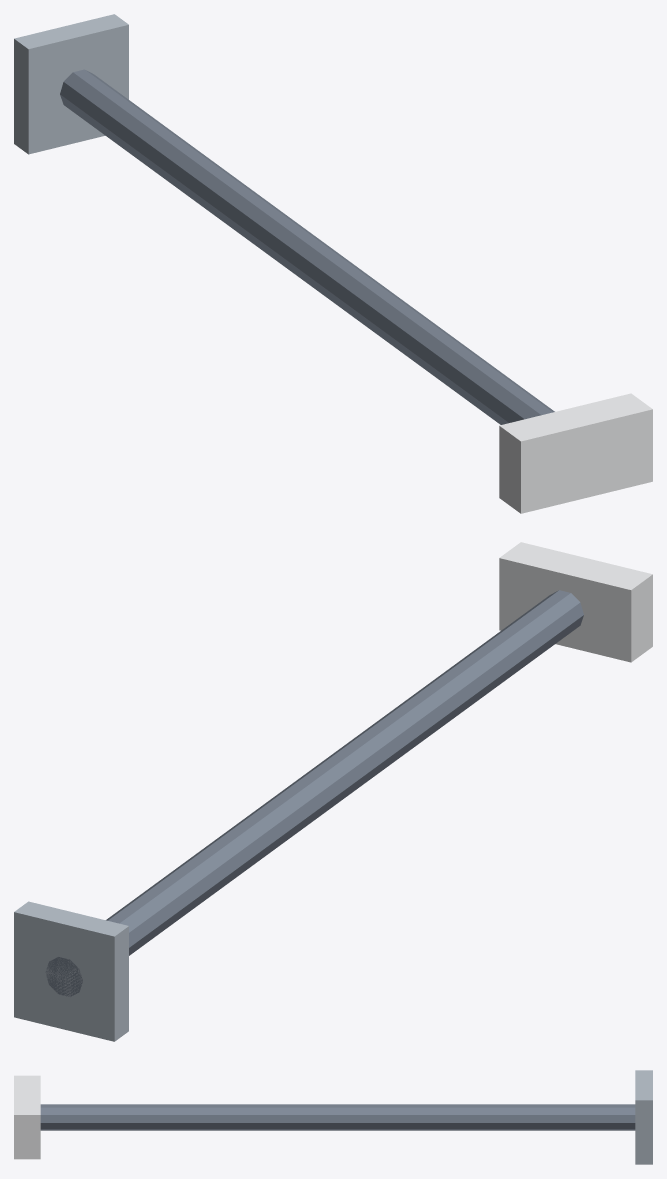
File: lamp_post.glb
3 renders of one model, top to bottom at view 1: azimuth 30°, elevation 25°; view 2: azimuth 150°, elevation 25°; view 3: azimuth 270°, elevation 25°, orthographic. The views are drawn at different scales.
Parts seen in each view (by area): view 1: pole_0, lamp_1, base_2; view 2: pole_0, base_2, lamp_1; view 3: pole_0, lamp_1, base_2.
Part boxes in pixels (x1,y1,x2,y2): pole_0: (60, 69, 554, 424); lamp_1: (499, 393, 652, 513); base_2: (14, 14, 128, 154); pole_0: (45, 590, 583, 996); base_2: (14, 901, 128, 1041); lamp_1: (499, 542, 652, 662); pole_0: (40, 1104, 635, 1130); lamp_1: (14, 1075, 40, 1159); base_2: (635, 1070, 652, 1164).
Bounding box in the file's own units: 0.42 × 0.32 × 2.88.
